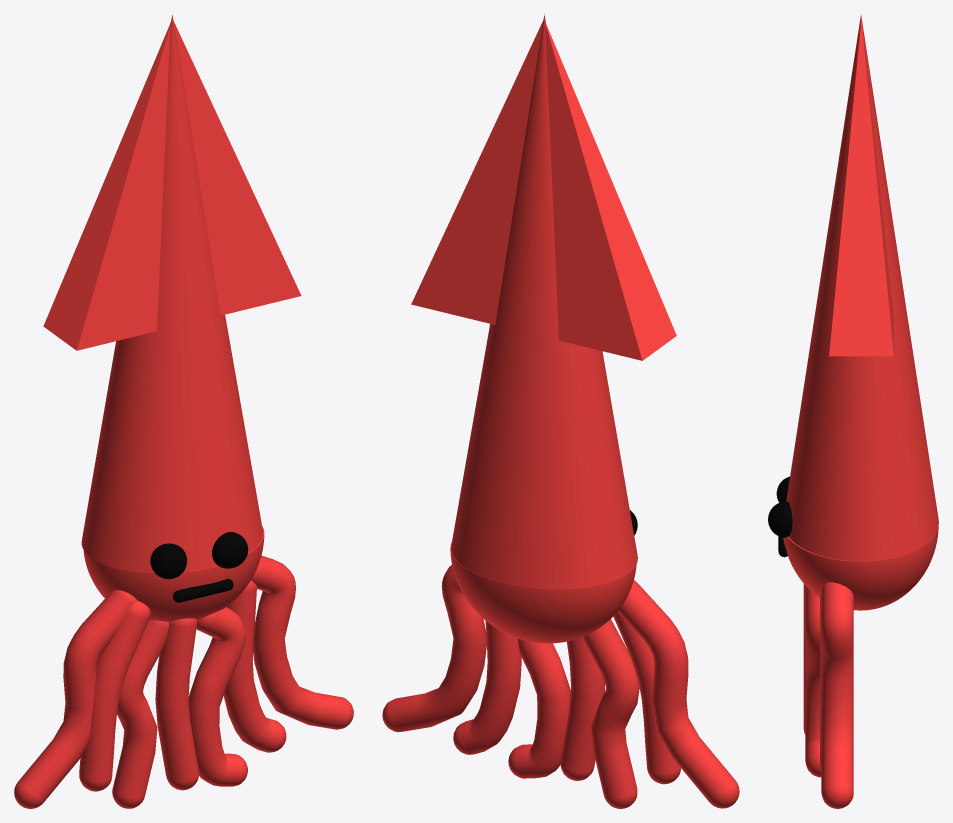
Rendered from Squid.fbx.
3 views of the same model, side by side, from view 1: azimuth 30°, elevation 25°; view 2: azimuth 150°, elevation 25°; view 3: azimuth 270°, elevation 25° (orthographic). The views are drawn at different scales.
Parts seen in each view (by area): view 1: node_id160 (×6), node_id145 (×4), node_id152 (×3); view 2: node_id160 (×3), node_id145 (×4), node_id152 (×3); view 3: node_id160 (×4), node_id145 (×2), node_id152 (×2).
Part boxes in pixels (x1,y1,x2,y2): node_id160 (×6): (43, 15, 301, 621); node_id145 (×4): (14, 555, 353, 808); node_id152 (×3): (79, 580, 286, 791); node_id160 (×3): (411, 14, 676, 643); node_id145 (×4): (382, 565, 739, 808); node_id152 (×3): (453, 612, 680, 784); node_id160 (×4): (768, 15, 938, 610); node_id145 (×2): (805, 582, 853, 808); node_id152 (×2): (803, 584, 821, 770).
Size of the model in its own units: 0.1757 by 0.3803 by 0.079.
Materials: 13 (3 with a texture image).
